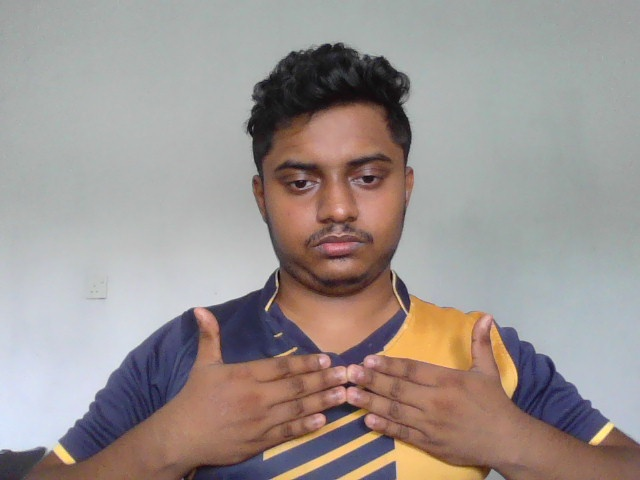Thank You: (176, 305, 514, 479)
